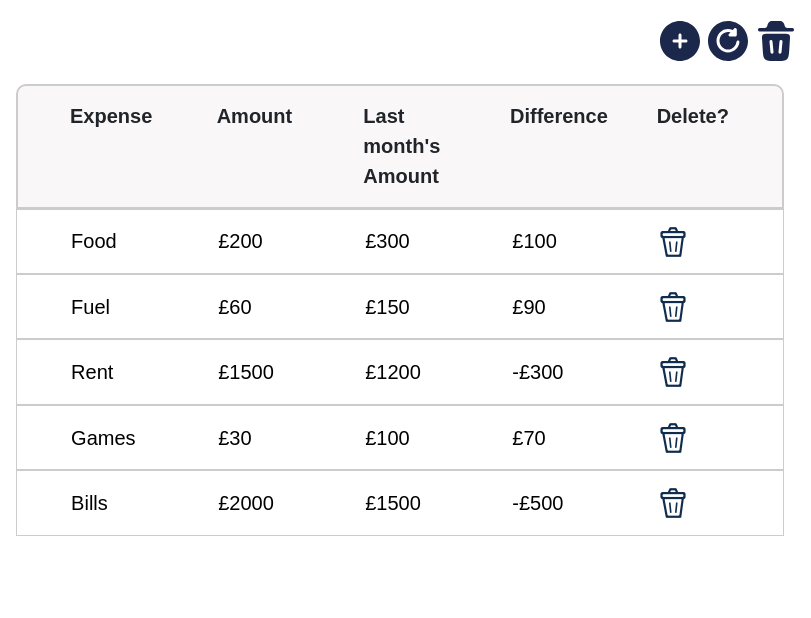
Test case: Add row button
Expected: the number of elements with test id "expense-row" is 5, [16,208,784,274]; [16,274,784,339]; [16,339,784,405]; [16,405,784,470]; [16,470,784,536]
Click the icon with test id "add-row" at (680, 41), box [656,17,704,65]
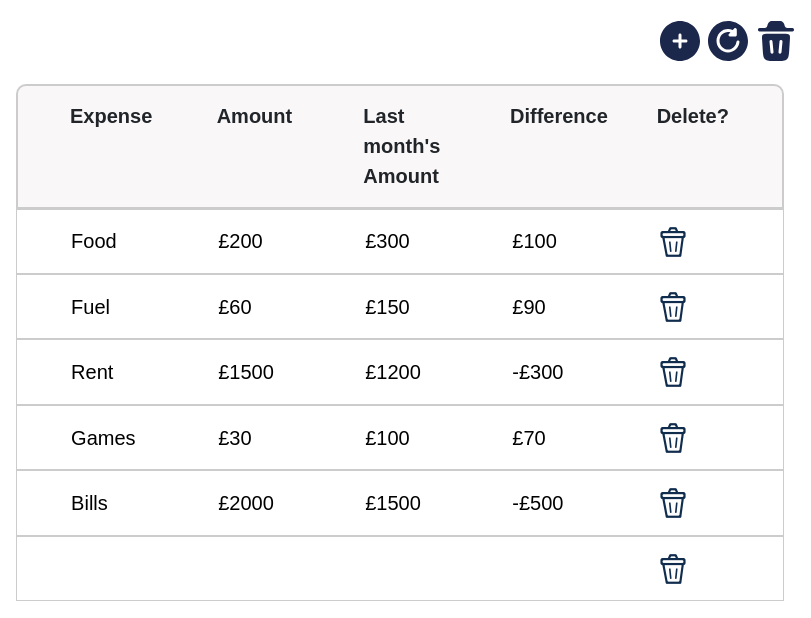
Expected: the number of elements with test id "expense-row" is 6, [16,208,784,274]; [16,274,784,339]; [16,339,784,405]; [16,405,784,470]; [16,470,784,536]; [16,536,784,601]
